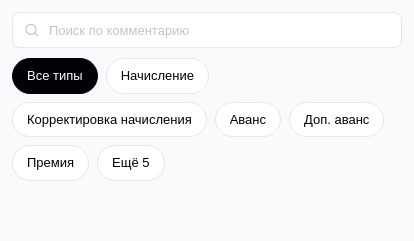
BalanceFilters — mobile "Ещё N" overflow › reveals the remaining type chips after clicking "Ещё N"
Click the button "Ещё 5".
click(131, 163)  # box [97,145,164,180]
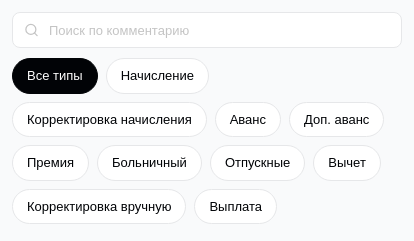
Result: the button "Вычет" is shown at [313,145,381,180]
Result: the button "Выплата" is shown at [194,188,277,224]
Result: the button "Ещё 5" is gone
